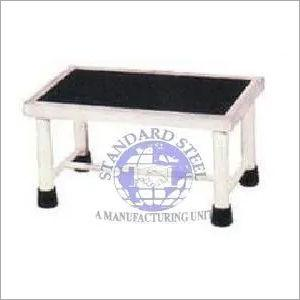stool: (21, 60, 268, 231)
